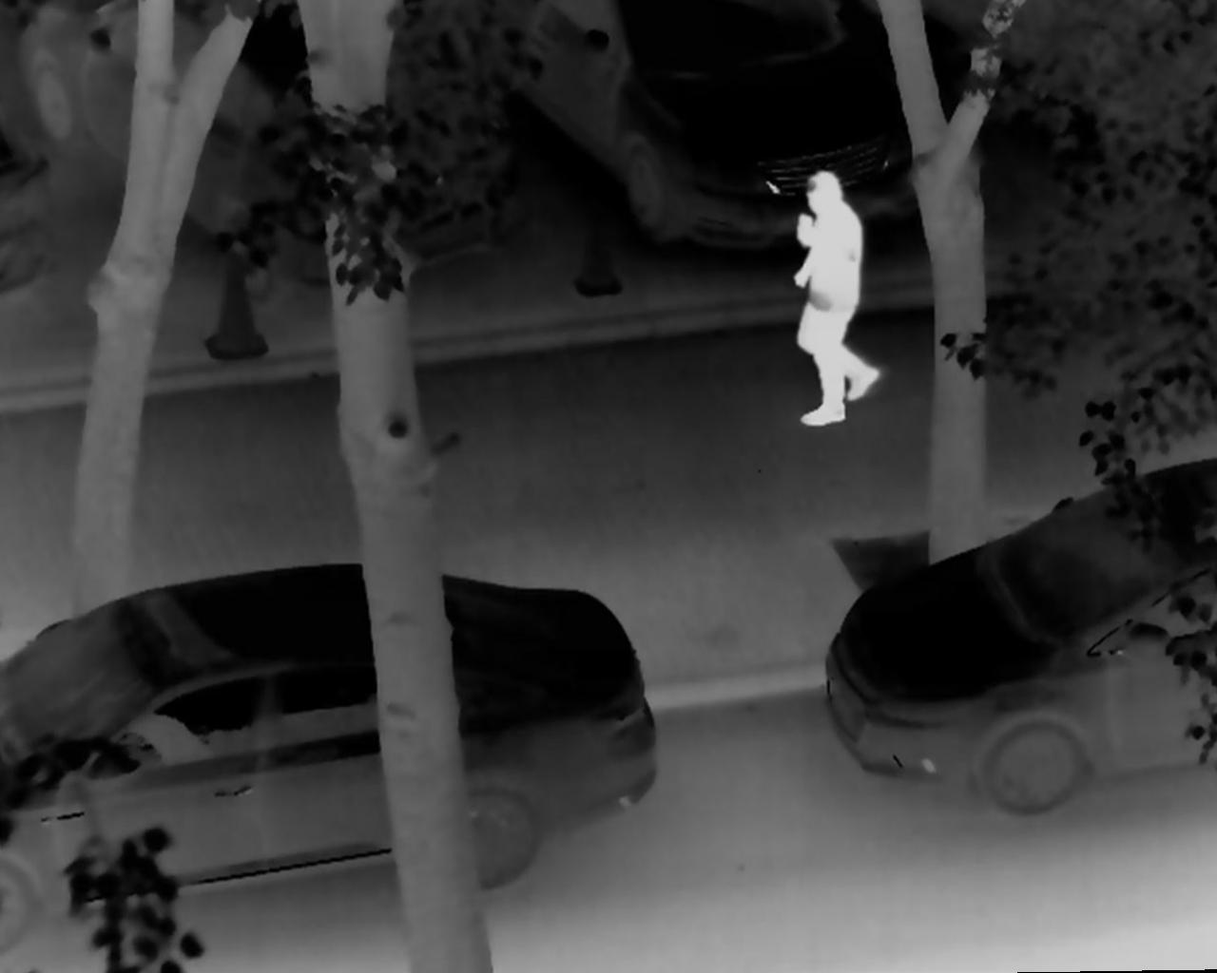person: (783, 171, 892, 432)
